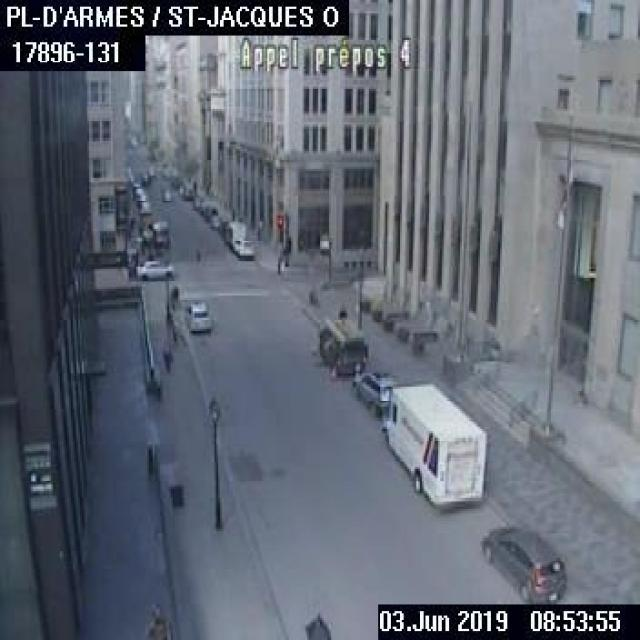pedestrian: (144, 602, 172, 638), (159, 336, 173, 372), (167, 282, 180, 316)
vehicle: (380, 382, 485, 505), (478, 524, 566, 600), (314, 317, 368, 377), (350, 368, 398, 415), (184, 298, 211, 333), (135, 257, 173, 278), (222, 220, 244, 247), (151, 220, 168, 247), (232, 237, 252, 257), (138, 199, 150, 213), (160, 188, 170, 200)
